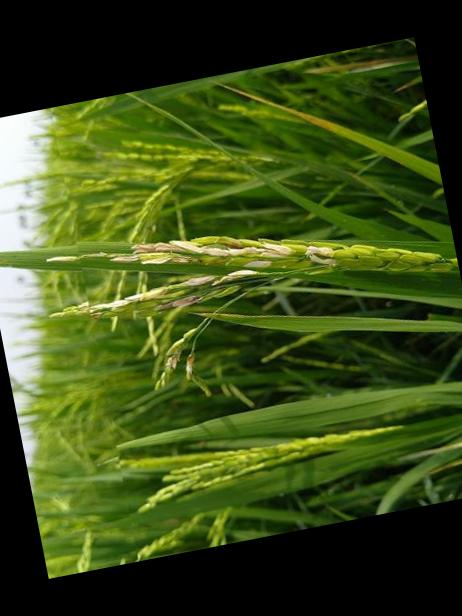Panicle Blight: (51, 236, 336, 321), (155, 327, 199, 389)
